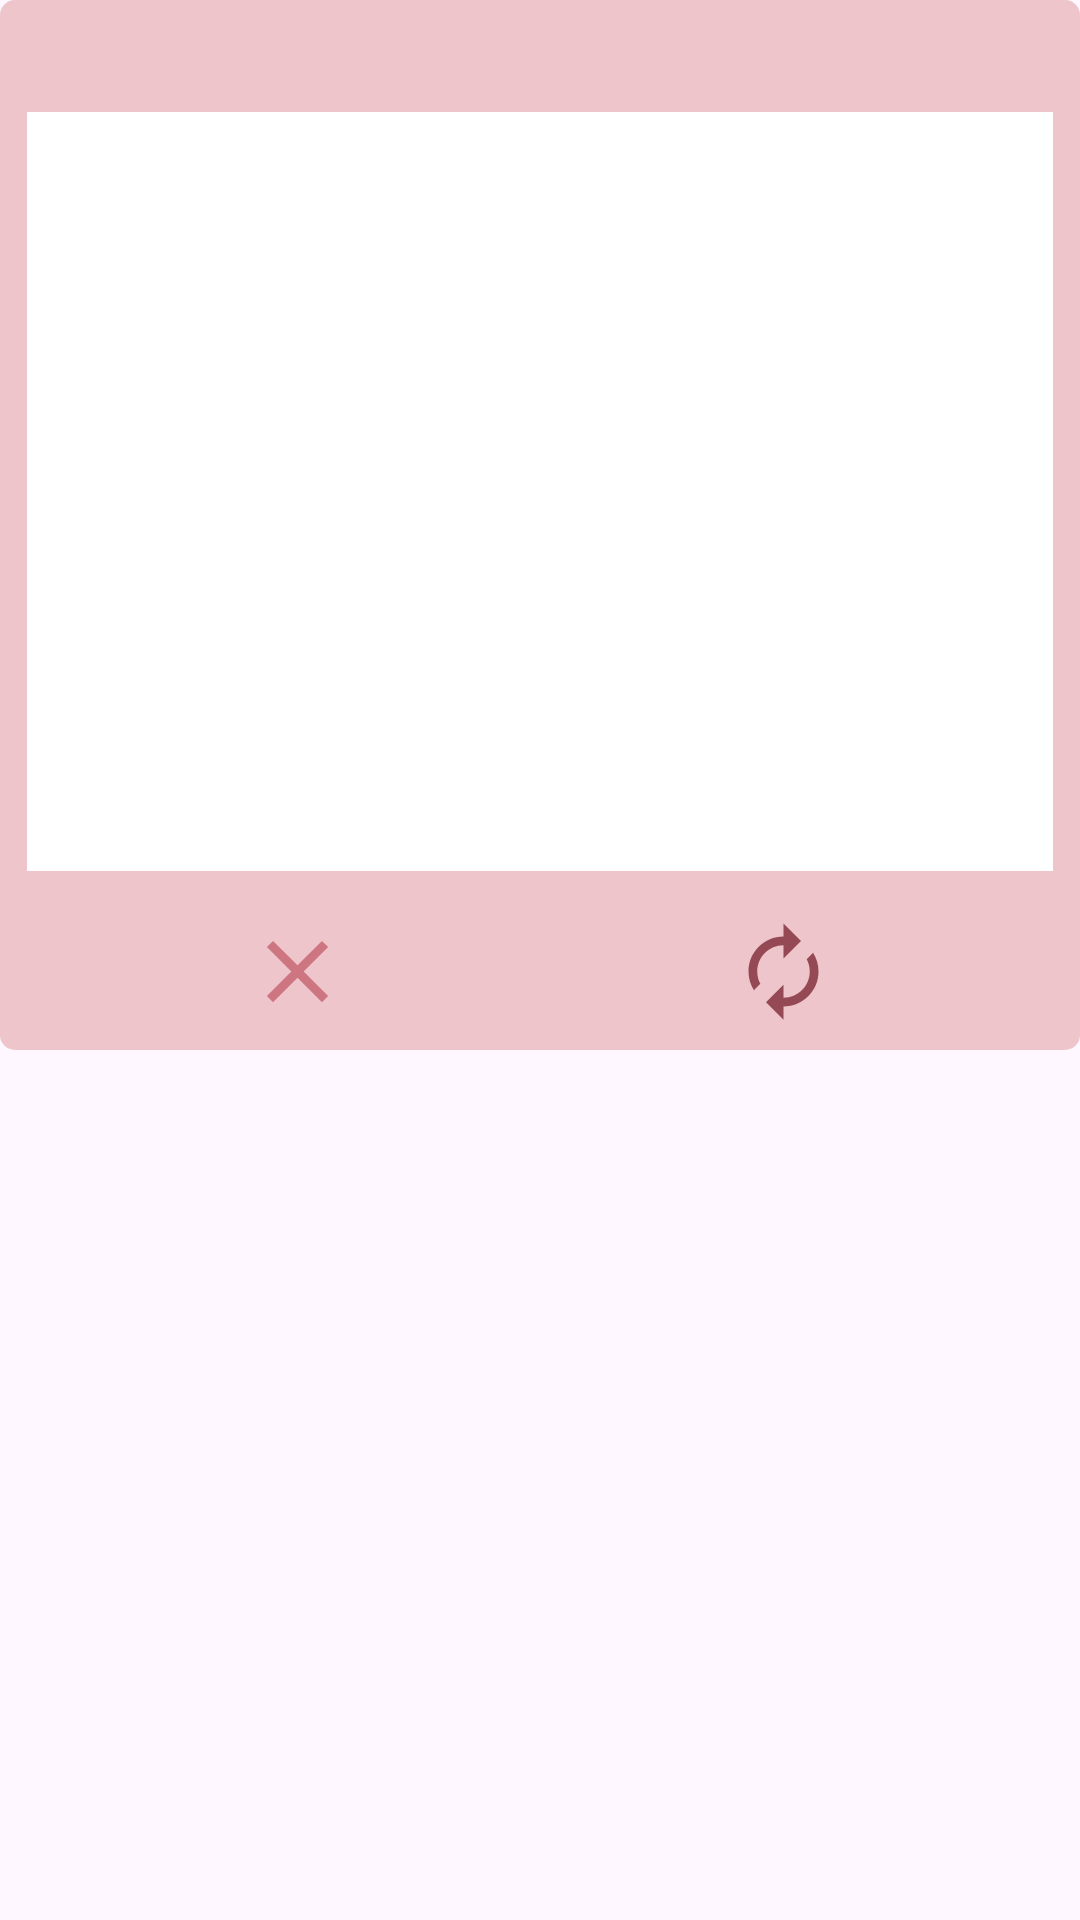

Locate icon controls on the screen. Image size 1080x1920, boxes as (x1, y1, x2, y2).
close: (267, 941, 328, 1002)
update: (748, 924, 819, 1020)
